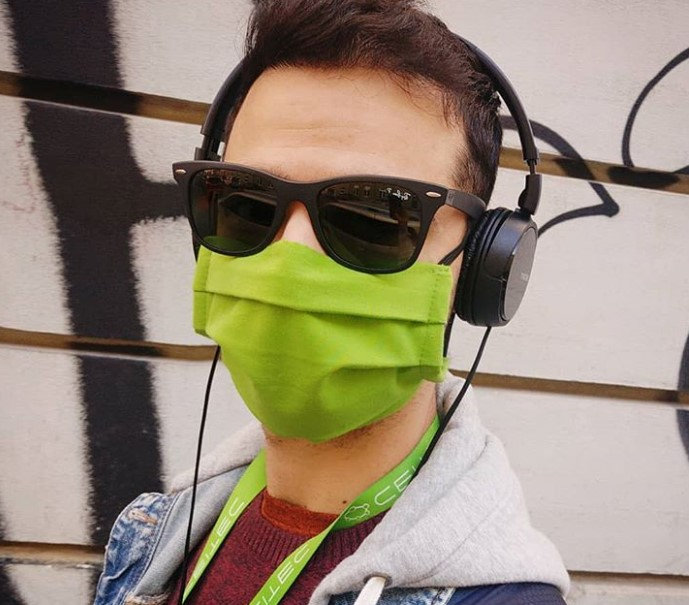face_with_mask: (175, 15, 496, 446)
